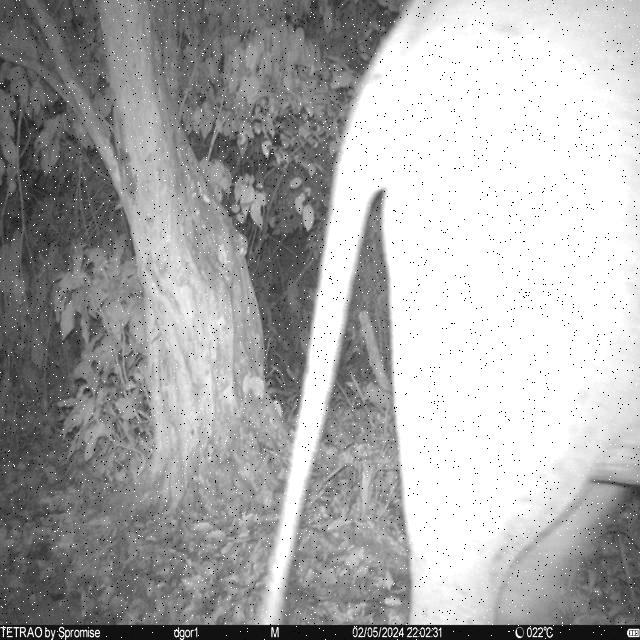elephant: (257, 0, 640, 627)
